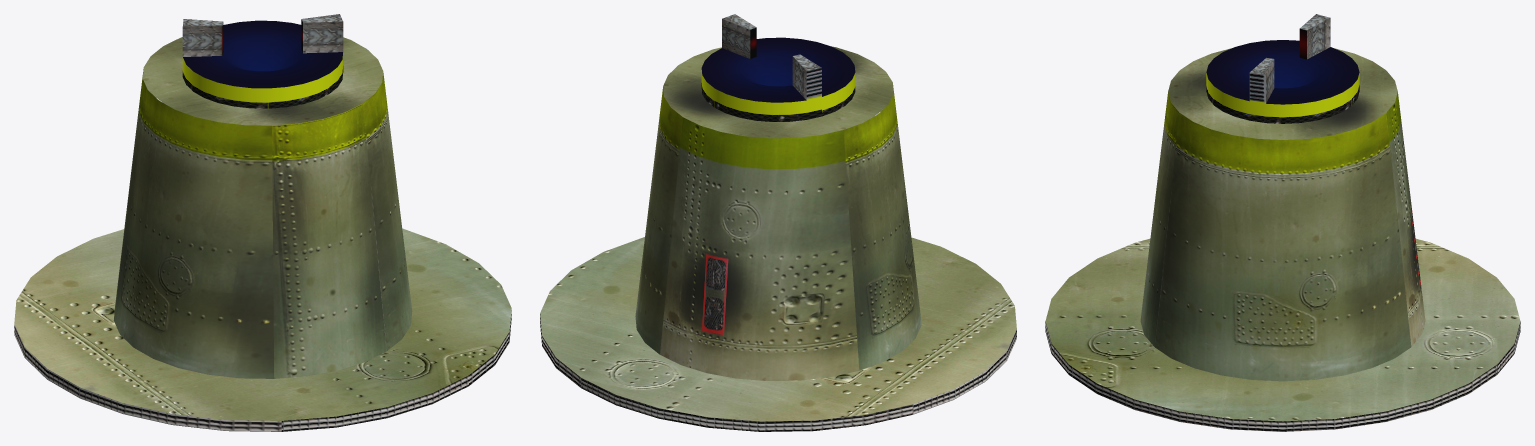
Rendered from towerB_yellow.fbx.
3 renders of one model, left to right at view 1: azimuth 30°, elevation 25°; view 2: azimuth 150°, elevation 25°; view 3: azimuth 270°, elevation 25°, orthographic. The views are drawn at different scales.
Visible parts, largest first — view 1: pCylinder1; view 2: pCylinder1; view 3: pCylinder1.
Boxes of the visible parts, box(x1,y1,x2,y2) form: pCylinder1: box(14, 14, 511, 431); pCylinder1: box(540, 14, 1016, 431); pCylinder1: box(1045, 14, 1520, 431).
Size of the model in its own units: 24.3 by 16.28 by 24.3.
1 material, 1 textured.
